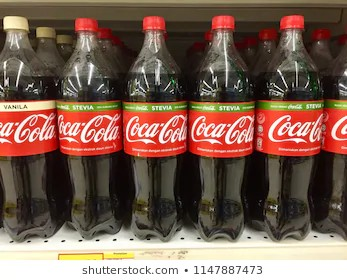coke-bottle-2l: (186, 10, 256, 242), (257, 9, 320, 241), (63, 9, 122, 242), (126, 5, 183, 241)
